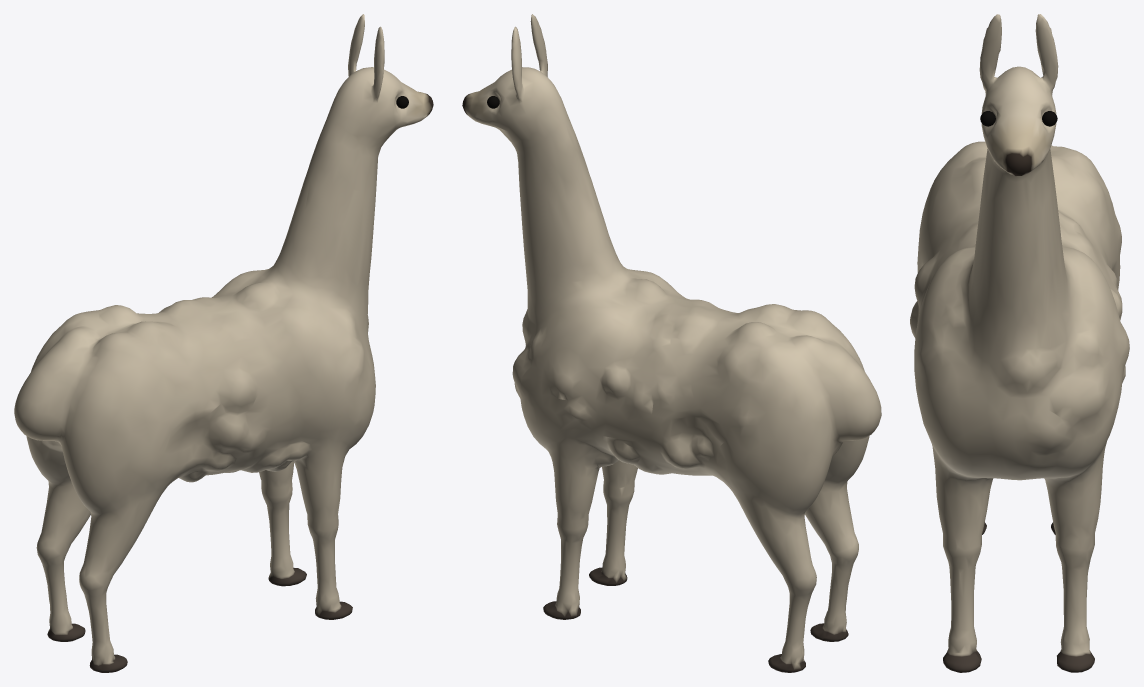
File: alpaca.glb
3 renders of one model, left to right at view 1: azimuth 30°, elevation 25°; view 2: azimuth 150°, elevation 25°; view 3: azimuth 270°, elevation 25°, orthographic. The views are drawn at different scales.
Visible parts, largest first — view 1: alpaca; view 2: alpaca; view 3: alpaca.
Part boxes in pixels (box(x1,y1,x2,y2)): alpaca: box(14, 14, 433, 672); alpaca: box(462, 14, 881, 672); alpaca: box(910, 14, 1129, 672).
Size of the model in its own units: 1.24 by 1.62 by 0.4676.
